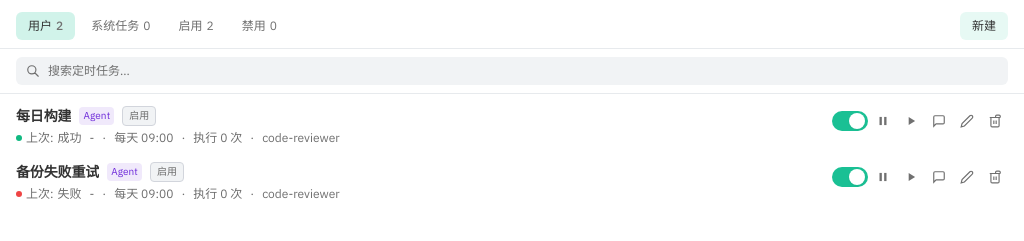
零值不着色 › 计数为零的筛选态：空结果文案沿用筛选行的同一套命名
What coordinates should you click on to do the following:
click the button "禁用0"
I would click on:
 (259, 26)
Its box is [230,12,289,40].
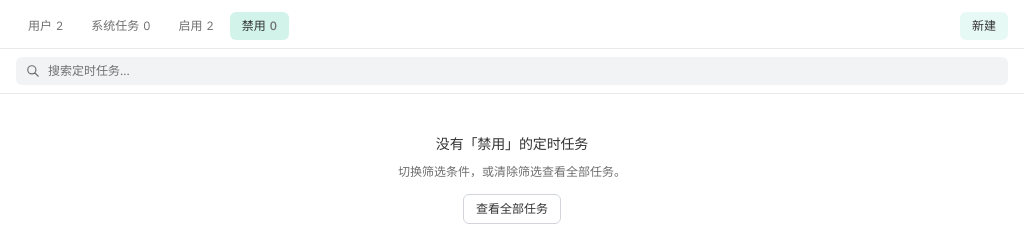
Check: the text "没有「禁用」的定时任务" is shown, box [436,134,588,154]
